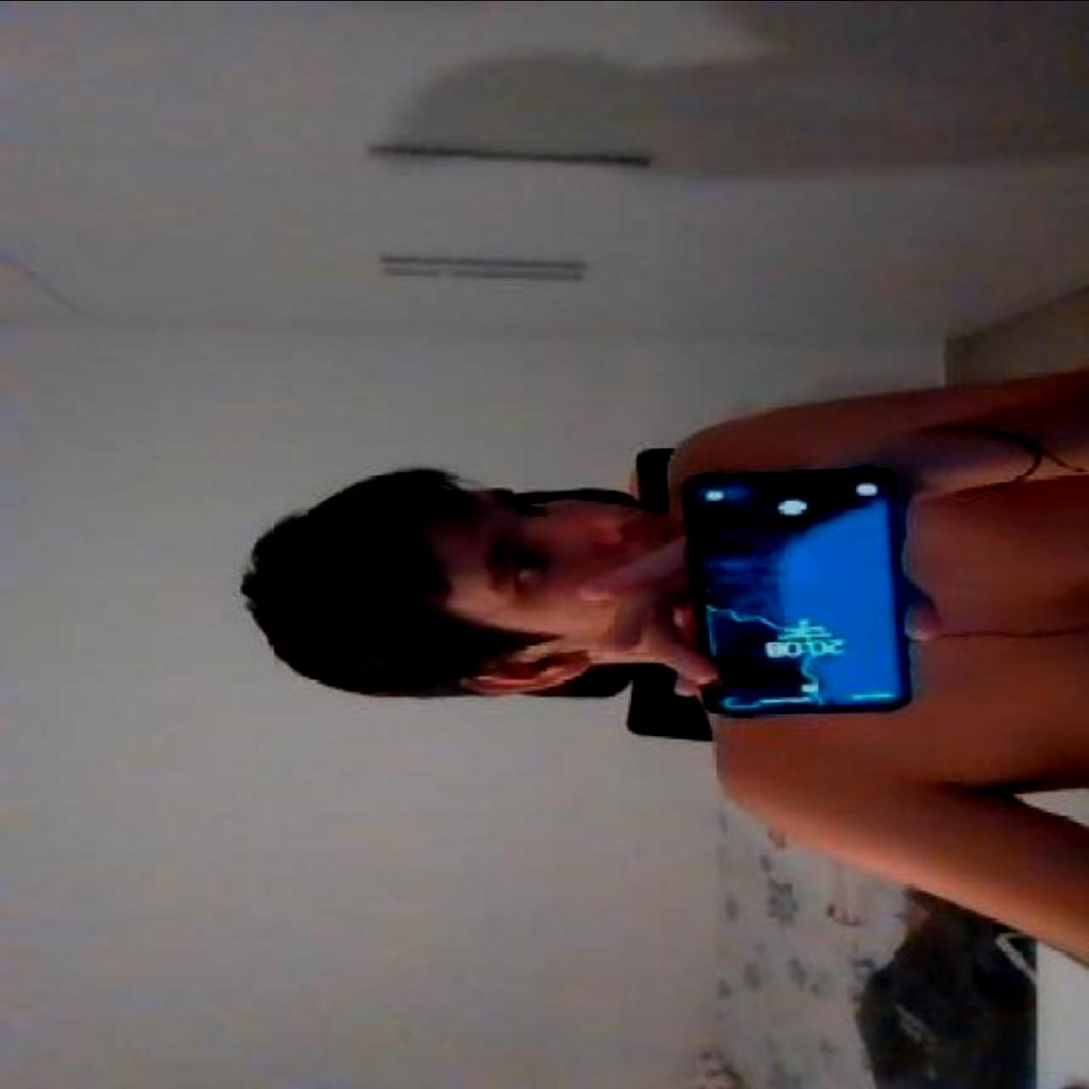phone: (688, 462, 915, 719)
